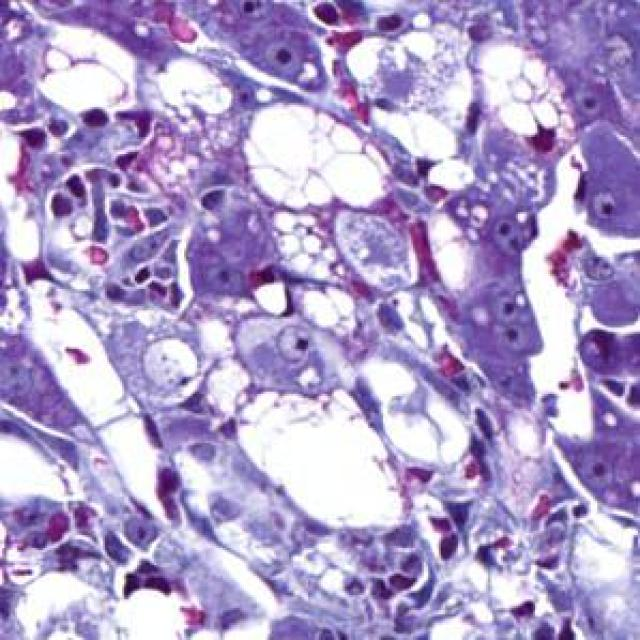ballooning: (233, 386, 404, 538), (229, 94, 405, 212), (467, 32, 580, 167)
